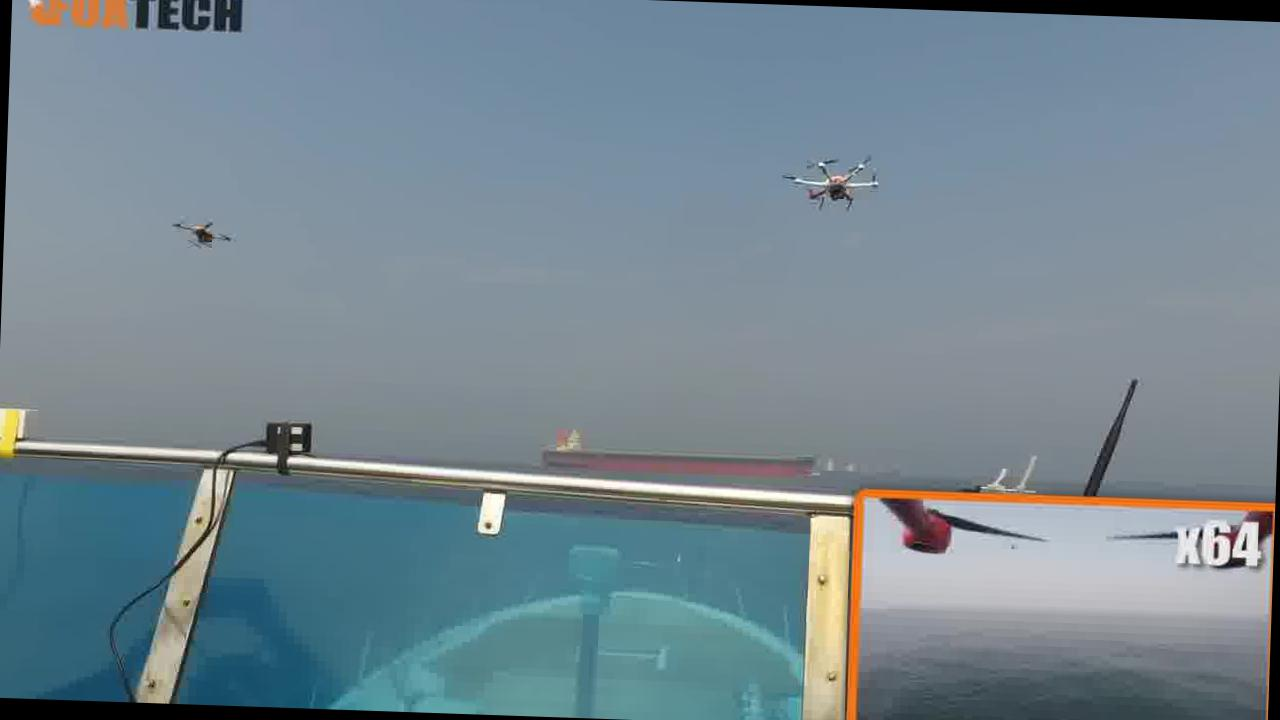drone: (781, 136, 895, 223), (159, 209, 242, 257)
